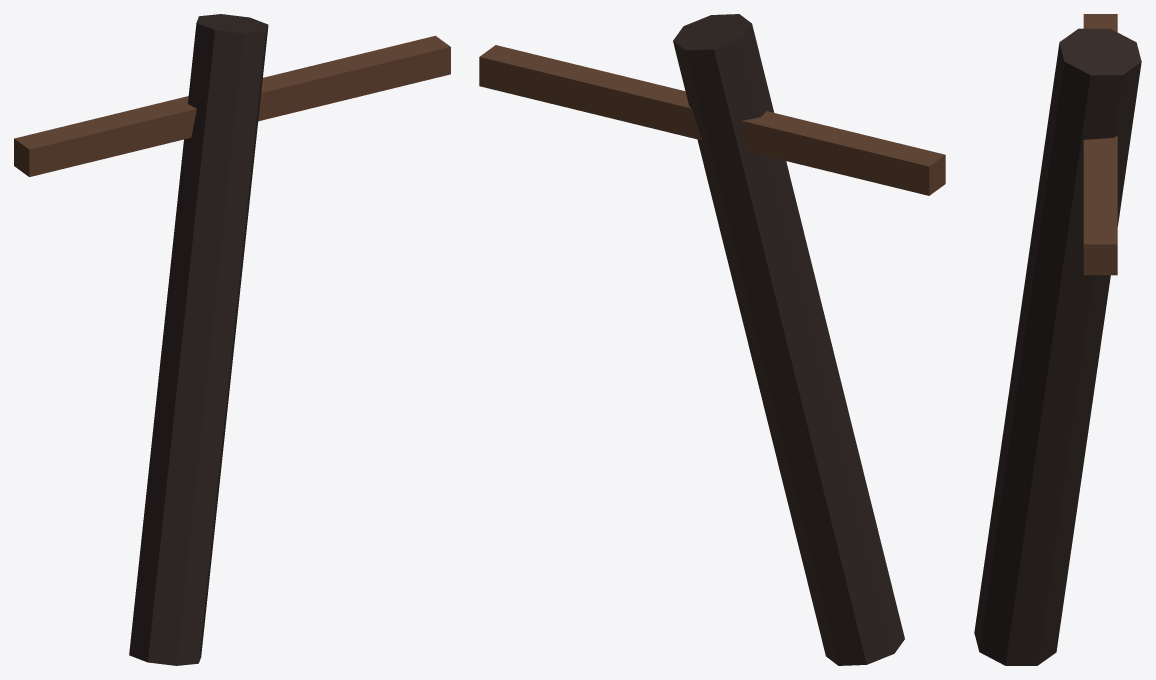
File: PirateCove_WreckMast_Simple.glb
The picture shows the model from 3 angles, left to right: view 1: azimuth 30°, elevation 25°; view 2: azimuth 150°, elevation 25°; view 3: azimuth 270°, elevation 25°; orthographic projection. The views are drawn at different scales.
Visible parts, largest first — view 1: PirateCove_WreckMast_Simple; view 2: PirateCove_WreckMast_Simple; view 3: PirateCove_WreckMast_Simple.
Part boxes in pixels (x1,y1,x2,y2): PirateCove_WreckMast_Simple: [14, 14, 450, 665]; PirateCove_WreckMast_Simple: [479, 14, 945, 665]; PirateCove_WreckMast_Simple: [974, 14, 1141, 665].
Bounding box in the file's own units: 3.2 × 4.31 × 0.9826.
